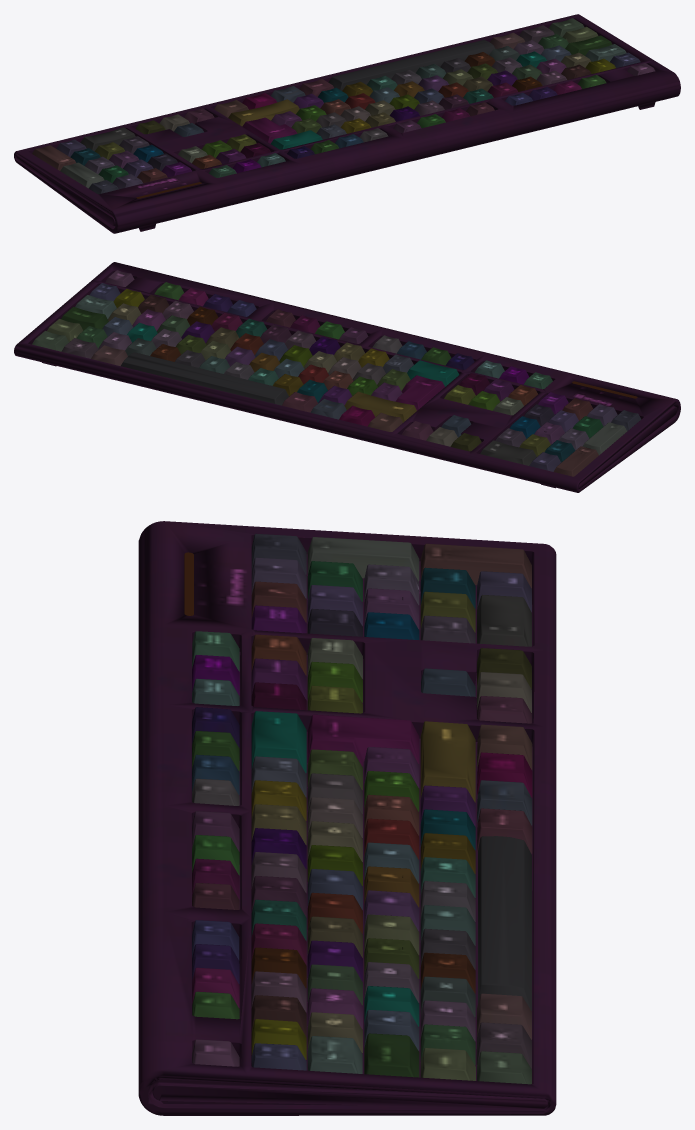
File: SR-computer_keyboard_a01.glb
3 views of the same model, one above another, from view 1: azimuth 30°, elevation 25°; view 2: azimuth 150°, elevation 25°; view 3: azimuth 270°, elevation 25° (orthographic). The views are drawn at different scales.
Parts seen in each view (by area): view 1: sm_computer_keyboard_a01_mesh_00; view 2: sm_computer_keyboard_a01_mesh_00; view 3: sm_computer_keyboard_a01_mesh_00.
Part boxes in pixels (bbox=[...]): sm_computer_keyboard_a01_mesh_00: bbox=[14, 14, 680, 233]; sm_computer_keyboard_a01_mesh_00: bbox=[14, 262, 680, 492]; sm_computer_keyboard_a01_mesh_00: bbox=[138, 521, 556, 1115].
Size of the model in its own units: 0.442 by 0.0202 by 0.142.
1 material, 1 textured.
